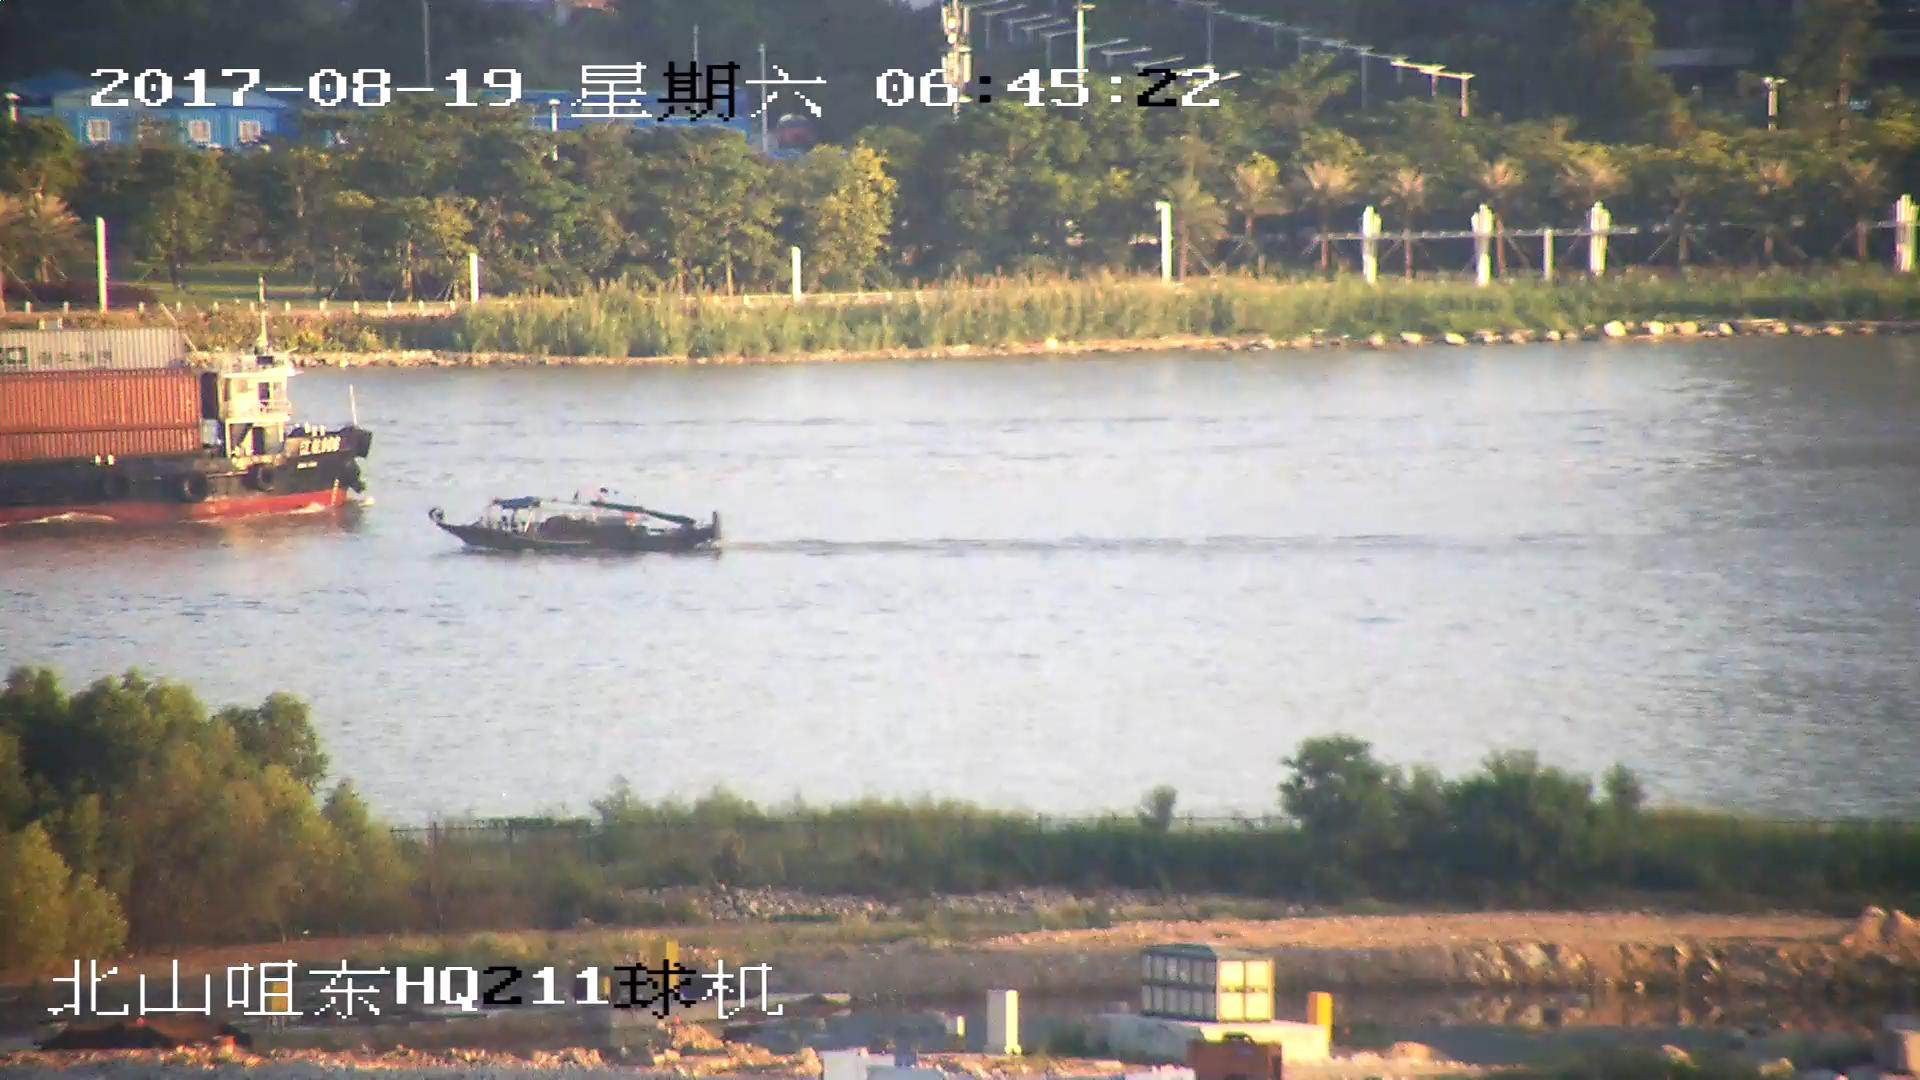container ship: (1, 312, 365, 529)
fishing boat: (430, 490, 730, 561)
